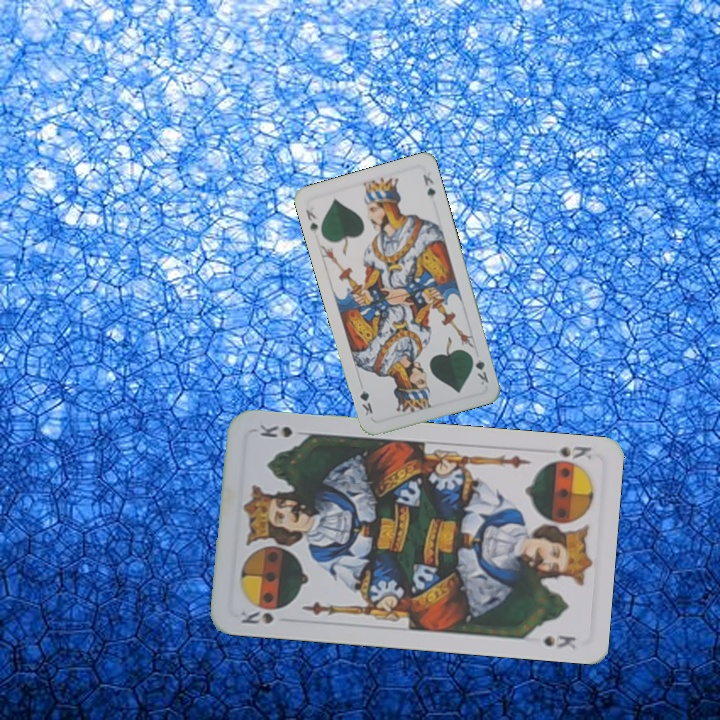GK: (467, 350, 491, 387), (301, 205, 321, 236)
SK: (542, 442, 594, 469), (236, 607, 276, 627)
